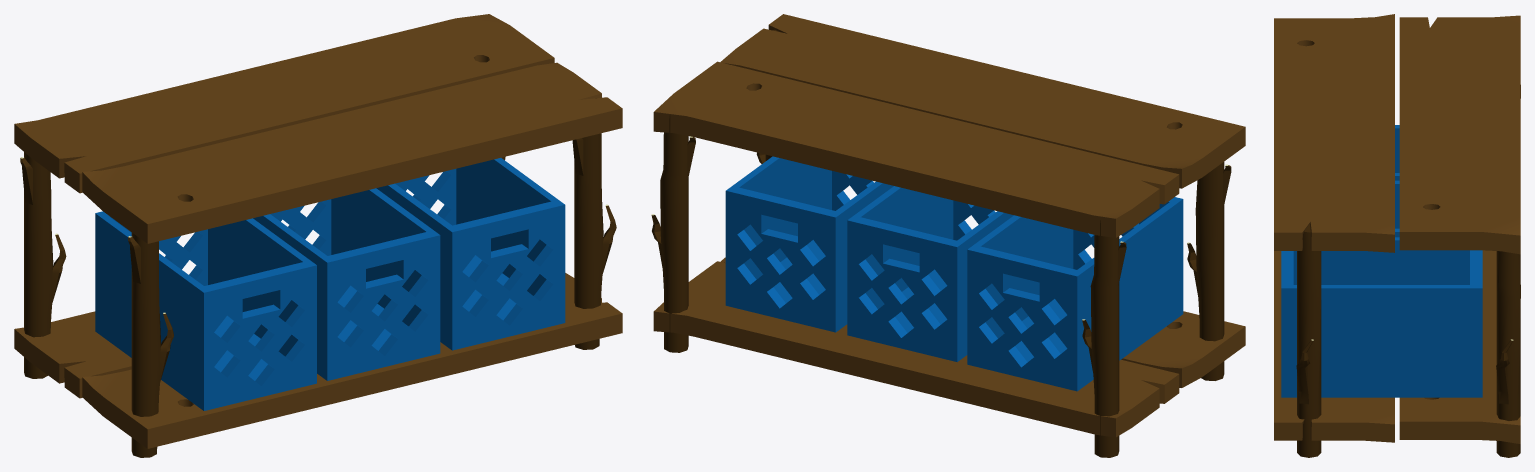
File: Workbench.fbx
3 views of the same model, side by side, from view 1: azimuth 30°, elevation 25°; view 2: azimuth 150°, elevation 25°; view 3: azimuth 270°, elevation 25° (orthographic). The views are drawn at different scales.
Visible parts, largest first — view 1: pCube194; view 2: pCube194; view 3: pCube194.
Part boxes in pixels (x1,y1,x2,y2): pCube194: [14, 14, 622, 457]; pCube194: [651, 14, 1245, 457]; pCube194: [1274, 14, 1520, 457].
Bounding box in the file's own units: 12.93 × 6.35 × 6.13.
